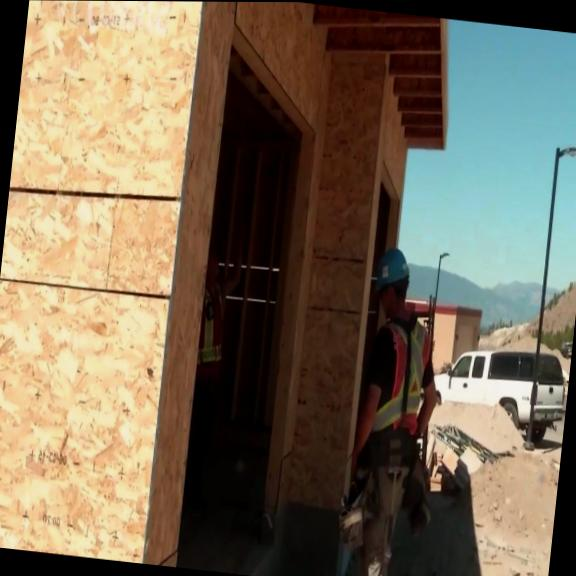safety_vest: (372, 312, 436, 436), (195, 280, 229, 381)
